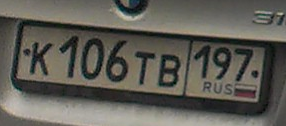character: (104, 36, 130, 84), (80, 35, 104, 83), (58, 35, 81, 80), (29, 41, 54, 78), (157, 53, 181, 89), (133, 49, 155, 88), (211, 44, 232, 81), (192, 42, 211, 81), (233, 45, 253, 81)
